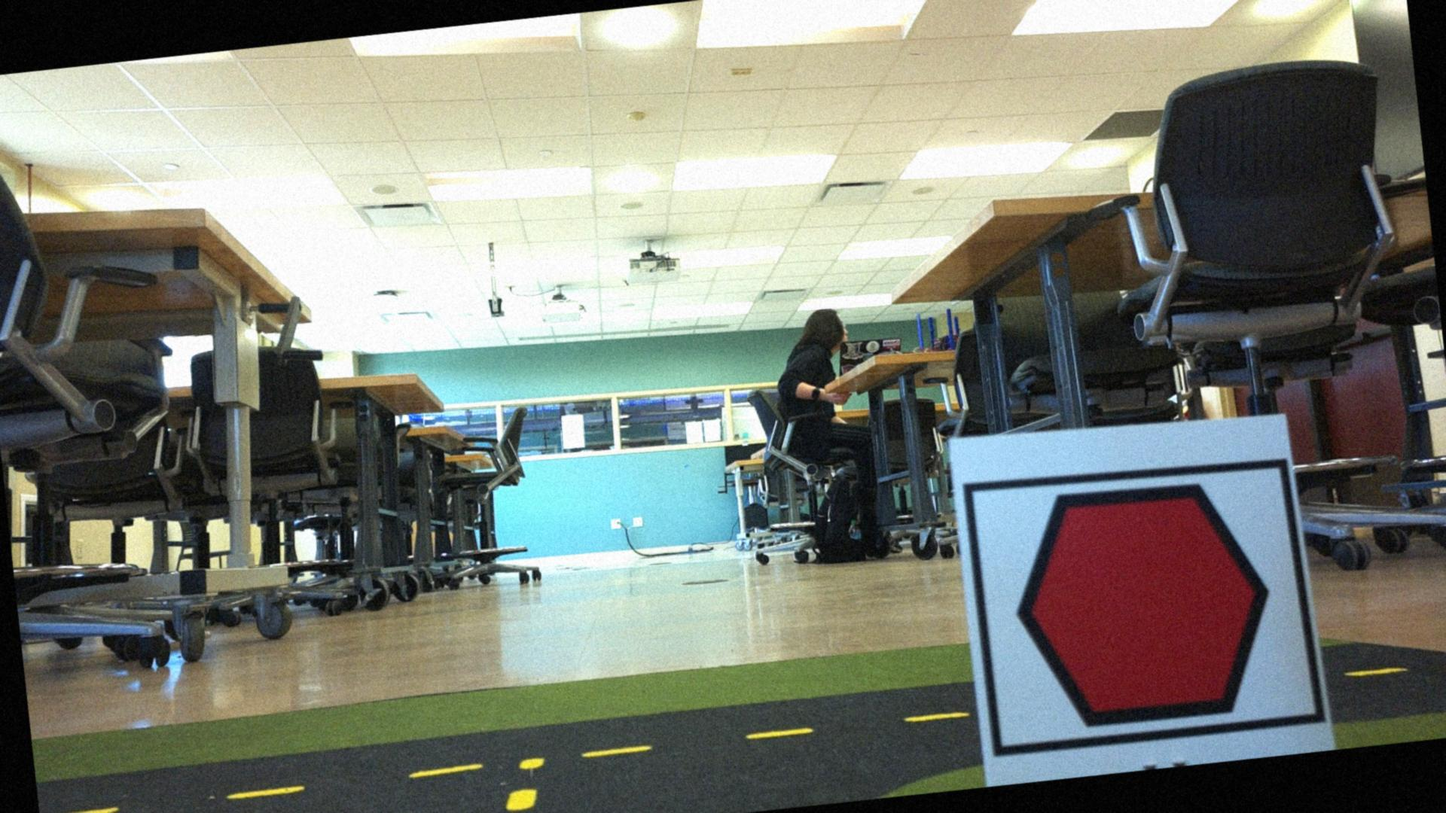stop: (990, 462, 1293, 748)
yellowline: (38, 707, 962, 812), (499, 752, 554, 812)
